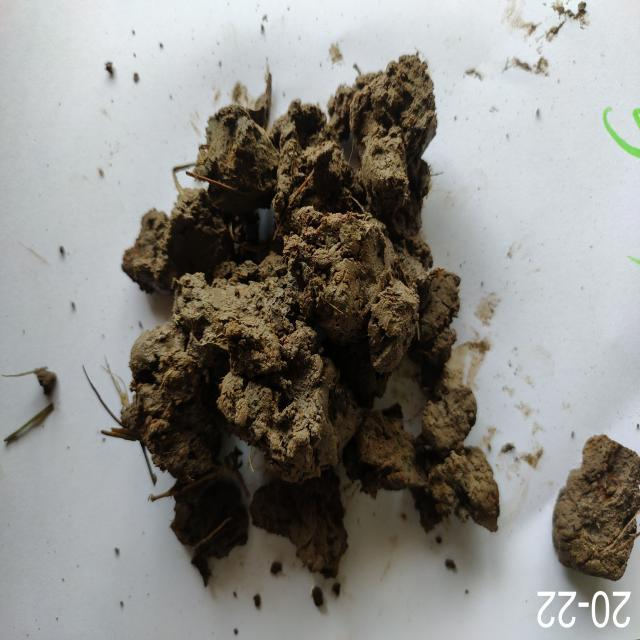soil: (206, 158, 416, 464)
